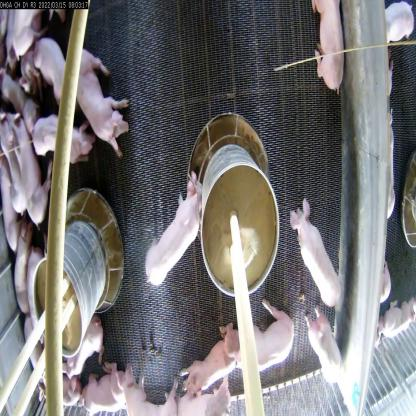Pig: (133, 164, 204, 305), (67, 53, 136, 169), (283, 203, 344, 302), (232, 296, 301, 375), (73, 347, 138, 415), (179, 323, 245, 388), (310, 0, 356, 92), (114, 362, 181, 415), (302, 307, 342, 395), (37, 108, 92, 160), (18, 128, 49, 217), (7, 225, 32, 309), (176, 378, 232, 415), (5, 116, 28, 205), (36, 21, 56, 79)
